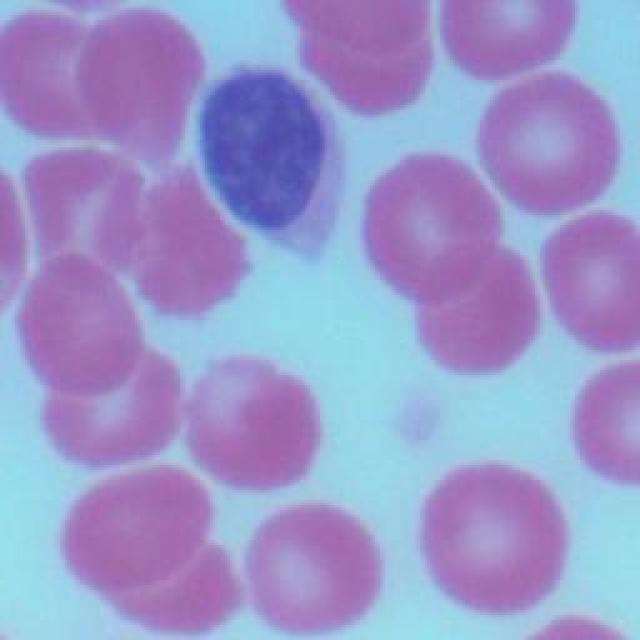RBC: (416, 461, 569, 619), (360, 155, 505, 307), (124, 166, 254, 326), (480, 67, 620, 215), (86, 6, 204, 169), (63, 464, 215, 588), (186, 355, 322, 493), (23, 142, 145, 292), (249, 500, 386, 632), (44, 341, 184, 469), (19, 250, 141, 395), (416, 242, 536, 376), (95, 534, 247, 636), (537, 212, 640, 355), (301, 19, 441, 119), (3, 11, 105, 144), (439, 4, 579, 81), (283, 0, 435, 58), (572, 359, 640, 486), (0, 162, 28, 316), (526, 612, 629, 640)
WBC: (192, 64, 346, 266)
